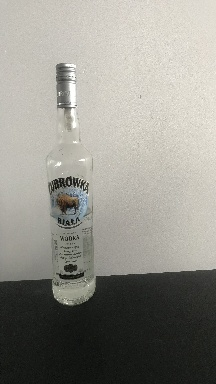butelka: (44, 60, 97, 309)
